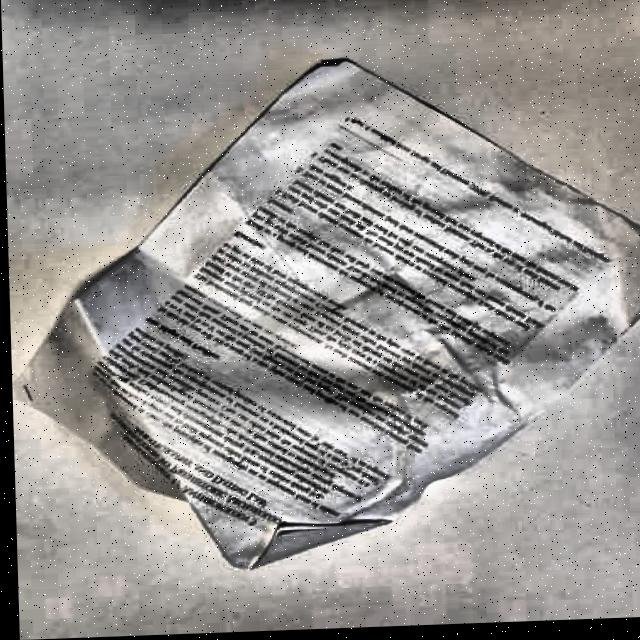paper: (2, 50, 640, 578)
